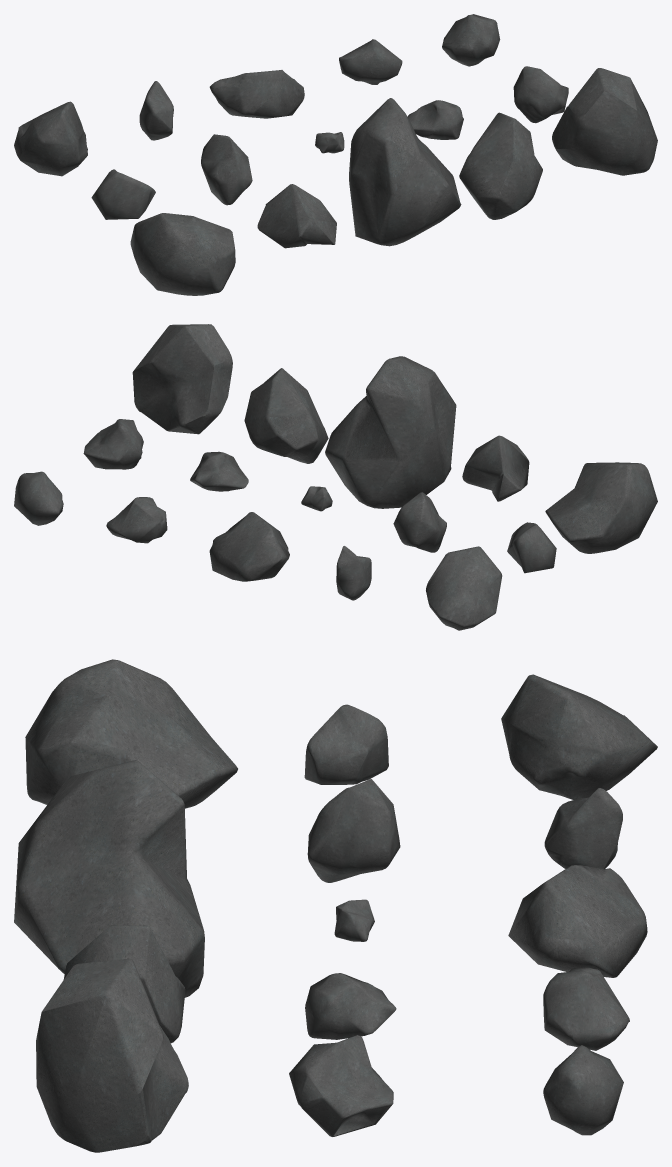
The model's file is moon_rocks.glb.
The picture shows the model from 3 angles, top to bottom: view 1: azimuth 30°, elevation 25°; view 2: azimuth 150°, elevation 25°; view 3: azimuth 270°, elevation 25°; orthographic projection. The views are drawn at different scales.
Parts seen in each view (by area): view 1: Moon_rock.013, Moon_rock.011, Moon_rock.015, Moon_rock.012, Moon_rock.005, Moon_rock.003, Moon_rock.014, Moon_rock.009, Moon_rock.001, Moon_rock.006, Moon_rock.010, Moon_rock.002 (+3 smaller); view 2: Moon_rock.013, Moon_rock.011, Moon_rock.015, Moon_rock.012, Moon_rock.005, Moon_rock.003, Moon_rock.014, Moon_rock.006, Moon_rock.009, Moon_rock.001, Moon_rock.002, Moon_rock.010 (+3 smaller); view 3: Moon_rock.013, Moon_rock.011, Moon_rock.015, Moon_rock.005, Moon_rock.003, Moon_rock.006, Moon_rock.009, Moon_rock.002, Moon_rock.010, Moon_rock.001, Moon_rock.012, Moon_rock.004 (+2 smaller).
Part boxes in pixels (x1,y1,x2,y2): Moon_rock.013: (349, 98, 461, 246); Moon_rock.011: (552, 68, 657, 175); Moon_rock.015: (130, 213, 235, 295); Moon_rock.012: (459, 112, 542, 219); Moon_rock.005: (14, 101, 87, 176); Moon_rock.003: (209, 70, 304, 118); Moon_rock.014: (257, 184, 336, 248); Moon_rock.009: (201, 134, 252, 205); Moon_rock.001: (442, 14, 500, 66); Moon_rock.006: (513, 66, 568, 123); Moon_rock.010: (91, 169, 155, 219); Moon_rock.002: (339, 39, 402, 84); Moon_rock.013: (325, 356, 456, 508); Moon_rock.011: (132, 324, 232, 434); Moon_rock.015: (545, 462, 657, 553); Moon_rock.012: (244, 368, 328, 463); Moon_rock.005: (426, 546, 502, 630); Moon_rock.003: (209, 512, 289, 581); Moon_rock.014: (462, 435, 529, 501); Moon_rock.006: (83, 419, 143, 469); Moon_rock.009: (393, 492, 446, 552); Moon_rock.001: (14, 471, 63, 525); Moon_rock.002: (106, 497, 167, 543); Moon_rock.010: (507, 522, 556, 573); Moon_rock.013: (14, 760, 204, 997); Moon_rock.011: (36, 958, 188, 1152); Moon_rock.015: (25, 659, 237, 808); Moon_rock.005: (501, 674, 657, 799); Moon_rock.003: (508, 865, 647, 977); Moon_rock.006: (289, 1035, 393, 1136); Moon_rock.009: (307, 779, 400, 882); Moon_rock.002: (543, 967, 629, 1050); Moon_rock.010: (304, 704, 388, 784); Moon_rock.001: (543, 1045, 623, 1135); Moon_rock.012: (63, 925, 185, 1043); Moon_rock.004: (544, 788, 622, 869).
Size of the model in its own units: 14.34 by 3.73 by 9.46.
1 material, 1 textured.
